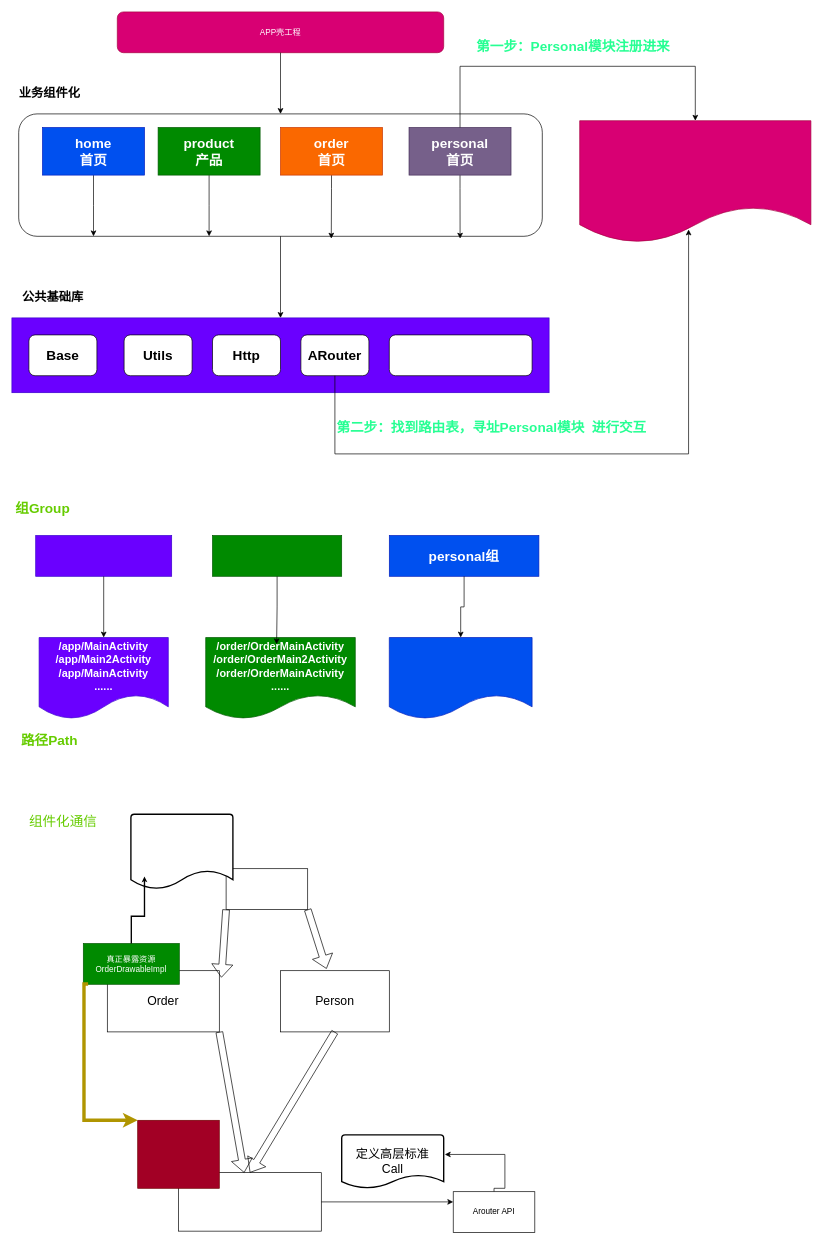
Image size: 823x1244. Some labels were removed from this diagram. The centre of each missing label's shape, as x and y in pixels:
"/order/getDrawable /order/getuserInfo" goes at point 181,851.
"/personal/PMainActivity /personal/PMain2Activity /personal/PMainActivity ......" goes at point 460,678.
"App壳" goes at point 266,889.
"app组" goes at point 103,555.
"Common基础库" goes at point 249,1201.
"group:personal path:personal/PersonalMainActivity 。。。。。。" goes at point 695,181.
"more..." goes at point 460,355.
"order组" goes at point 277,555.
"暴露标准，继承Call OrderDrawable IUser 等bean" goes at point 178,1154.
